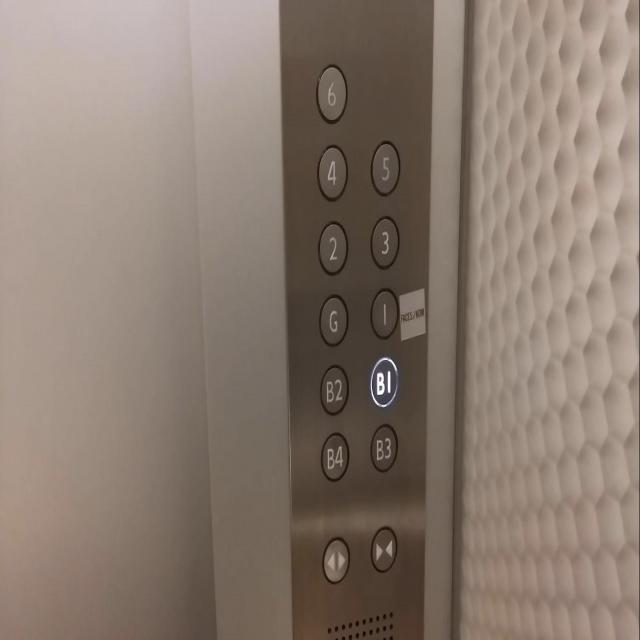1: (369, 285, 398, 340)
2: (317, 219, 348, 278)
3: (370, 214, 399, 269)
4: (316, 143, 348, 201)
5: (370, 140, 400, 198)
6: (316, 64, 348, 124)
B1: (369, 356, 398, 408)
B2: (319, 362, 349, 417)
B3: (369, 422, 398, 473)
B4: (319, 430, 349, 482)
G: (318, 292, 348, 348)
close: (369, 524, 397, 574)
open: (322, 535, 349, 583)
